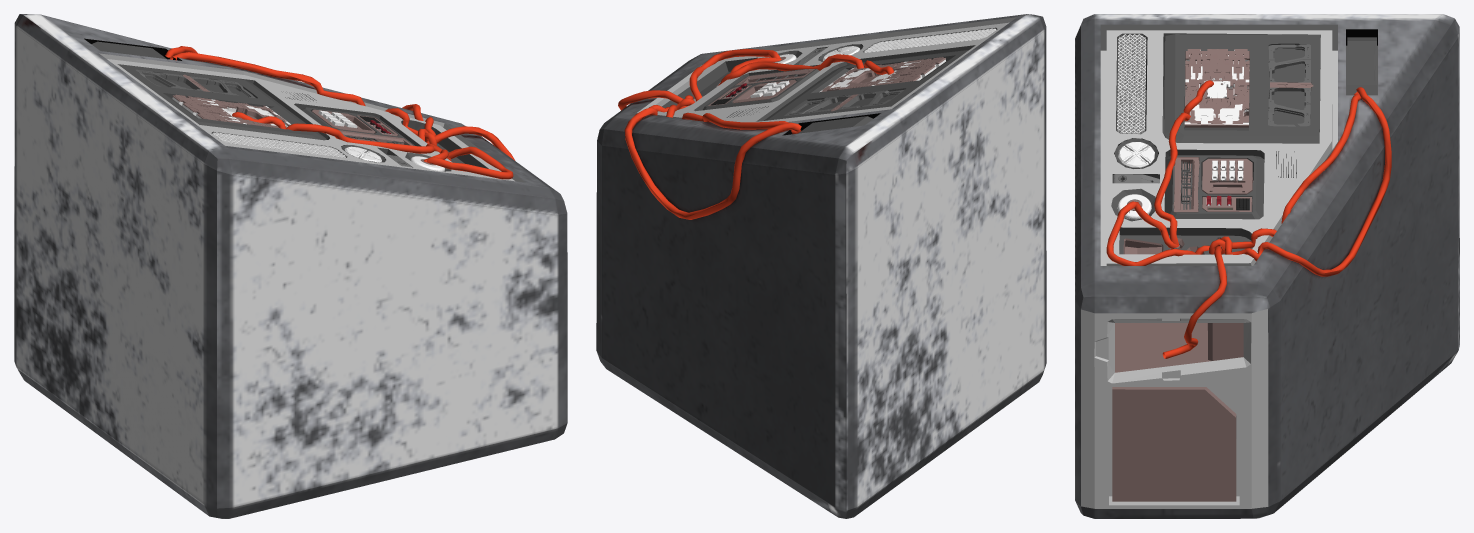
Rendered from Console-MediumRight.fbx.
3 renders of one model, left to right at view 1: azimuth 30°, elevation 25°; view 2: azimuth 150°, elevation 25°; view 3: azimuth 270°, elevation 25°, orthographic. The views are drawn at different scales.
Visible parts, largest first — view 1: Console-MediumRight, Cable.009, Console-MediumRight.024, Console-MediumRight.001, Console-MediumRight.012; view 2: Console-MediumRight, Cable.009, Console-MediumRight.024, Console-MediumRight.001, Console-MediumRight.012; view 3: Console-MediumRight, Cable.009, Console-MediumRight.024, Console-MediumRight.001, Console-MediumRight.012, Console-MediumRight.037, Button_Test1_Bc-Shape.001, Console-MediumRight.046, Console-MediumRight.011.
Part boxes in pixels (x1,y1,x2,y2): Console-MediumRight: (14,14,567,518); Cable.009: (165,46,515,179); Console-MediumRight.024: (172,94,290,128); Console-MediumRight.001: (212,132,345,158); Console-MediumRight.012: (136,69,255,97); Console-MediumRight: (596,14,1046,518); Cable.009: (618,48,894,219); Console-MediumRight.024: (819,57,945,92); Console-MediumRight.001: (864,28,996,52); Console-MediumRight.012: (784,89,904,115); Console-MediumRight: (1075,14,1459,518); Cable.009: (1106,80,1391,358); Console-MediumRight.024: (1184,49,1249,127); Console-MediumRight.001: (1117,34,1146,134); Console-MediumRight.012: (1268,44,1313,126); Console-MediumRight.037: (1118,142,1154,167); Button_Test1_Bc-Shape.001: (1212,160,1243,180); Console-MediumRight.046: (1117,194,1151,219); Console-MediumRight.011: (1181,161,1192,209).
Size of the model in its own units: 204 by 197 by 196.
